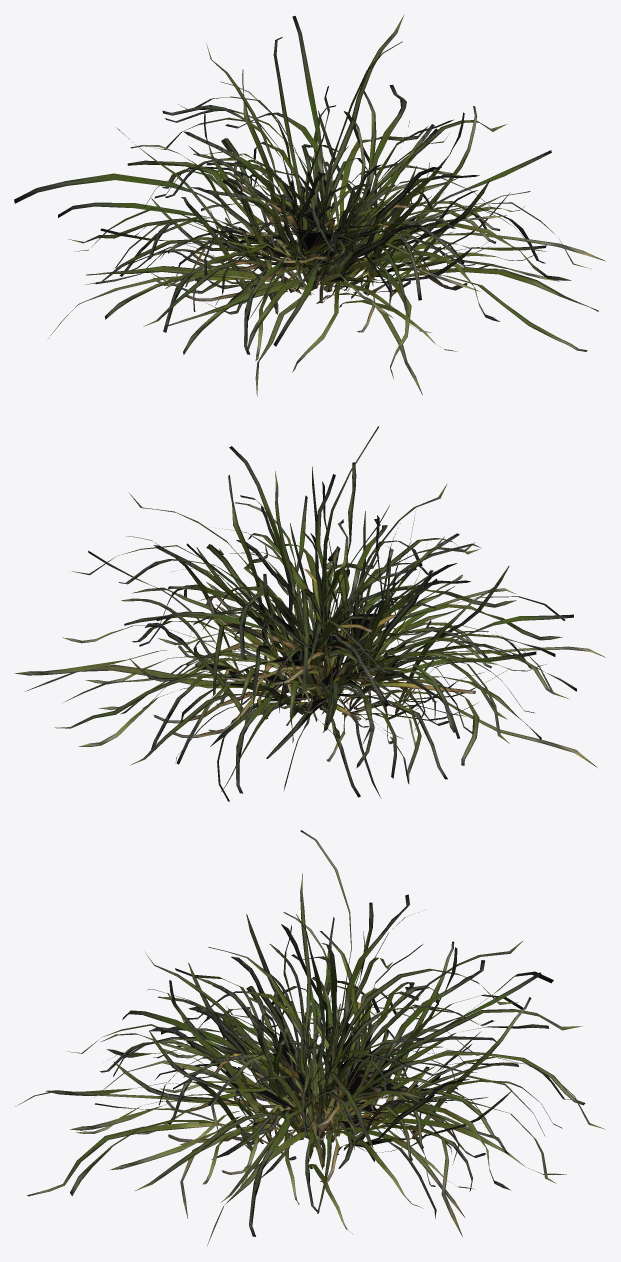
Rendered from grass_medium_01_large.glb.
The picture shows the model from 3 angles, top to bottom: view 1: azimuth 30°, elevation 25°; view 2: azimuth 150°, elevation 25°; view 3: azimuth 270°, elevation 25°; orthographic projection. The views are drawn at different scales.
Parts seen in each view (by area): view 1: grass_medium_01_large; view 2: grass_medium_01_large; view 3: grass_medium_01_large.
Part boxes in pixels (x1,y1,x2,y2): grass_medium_01_large: (14, 15, 605, 396); grass_medium_01_large: (14, 426, 605, 801); grass_medium_01_large: (15, 830, 605, 1245).
Bounding box in the file's own units: 0.2841 × 0.1693 × 0.2757.
1 material, 1 textured.
